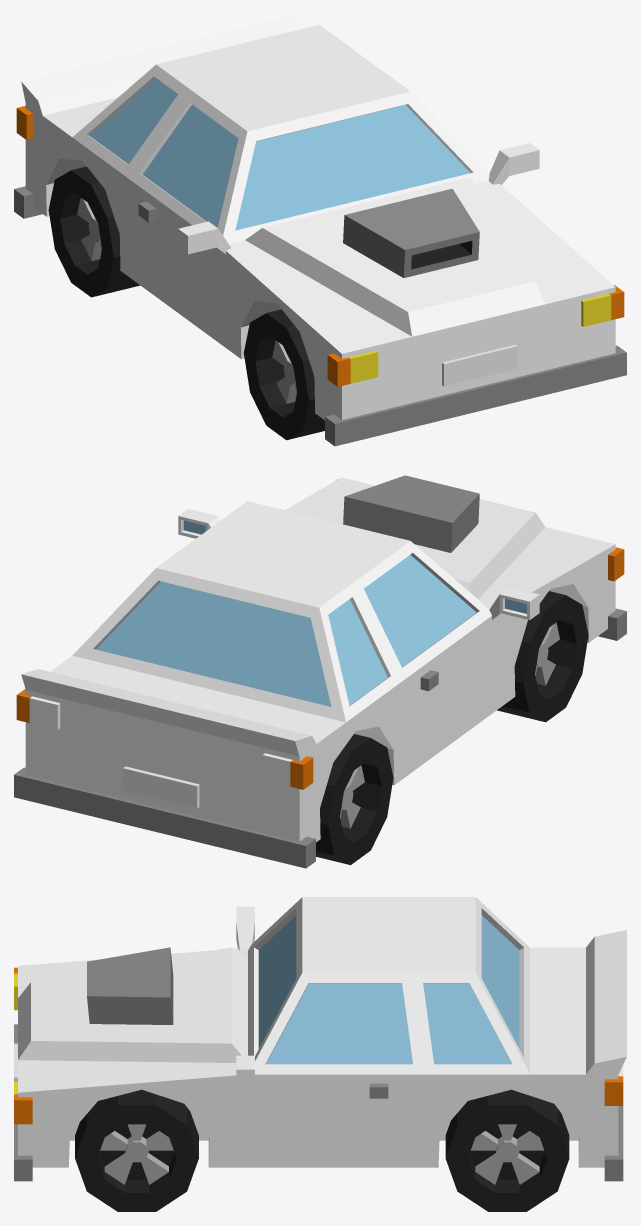
Rendered from car-lowpoly-4.fbx.
3 renders of one model, top to bottom at view 1: azimuth 30°, elevation 25°; view 2: azimuth 150°, elevation 25°; view 3: azimuth 270°, elevation 25°, orthographic. The views are drawn at different scales.
Visible parts, largest first — view 1: car-lowpoly-4; view 2: car-lowpoly-4; view 3: car-lowpoly-4.
Boxes of the visible parts, bbox=[...] form: car-lowpoly-4: bbox=[14, 14, 626, 446]; car-lowpoly-4: bbox=[14, 475, 626, 868]; car-lowpoly-4: bbox=[14, 897, 626, 1211].
Size of the model in its own units: 283 by 172 by 449.
